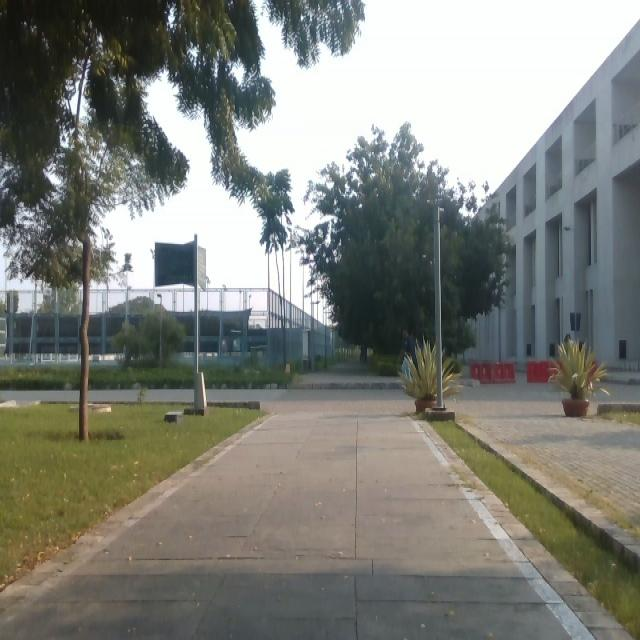lane: (8, 415, 573, 640)
